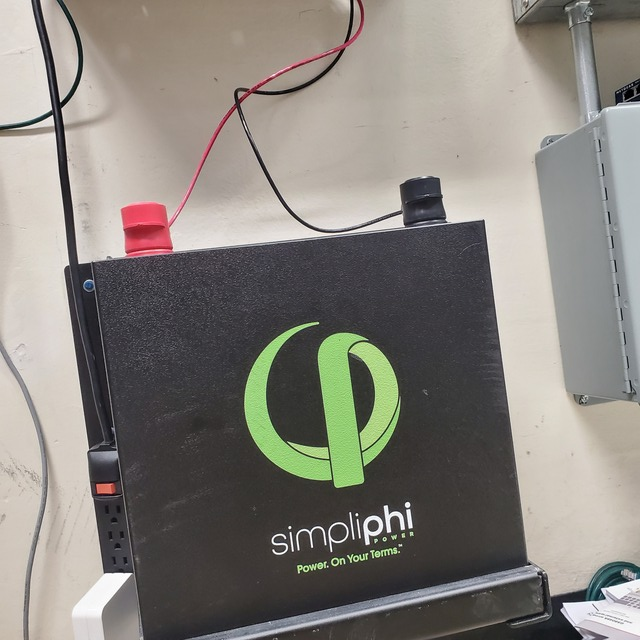battery: (88, 202, 561, 638)
